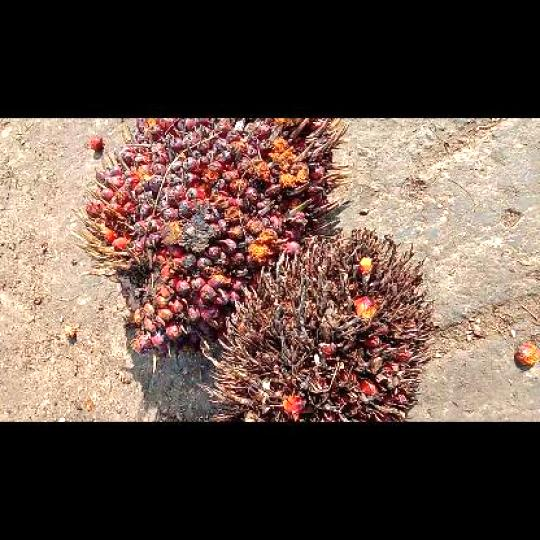masak: (74, 118, 348, 370)
terlalu masak: (203, 229, 436, 420)
